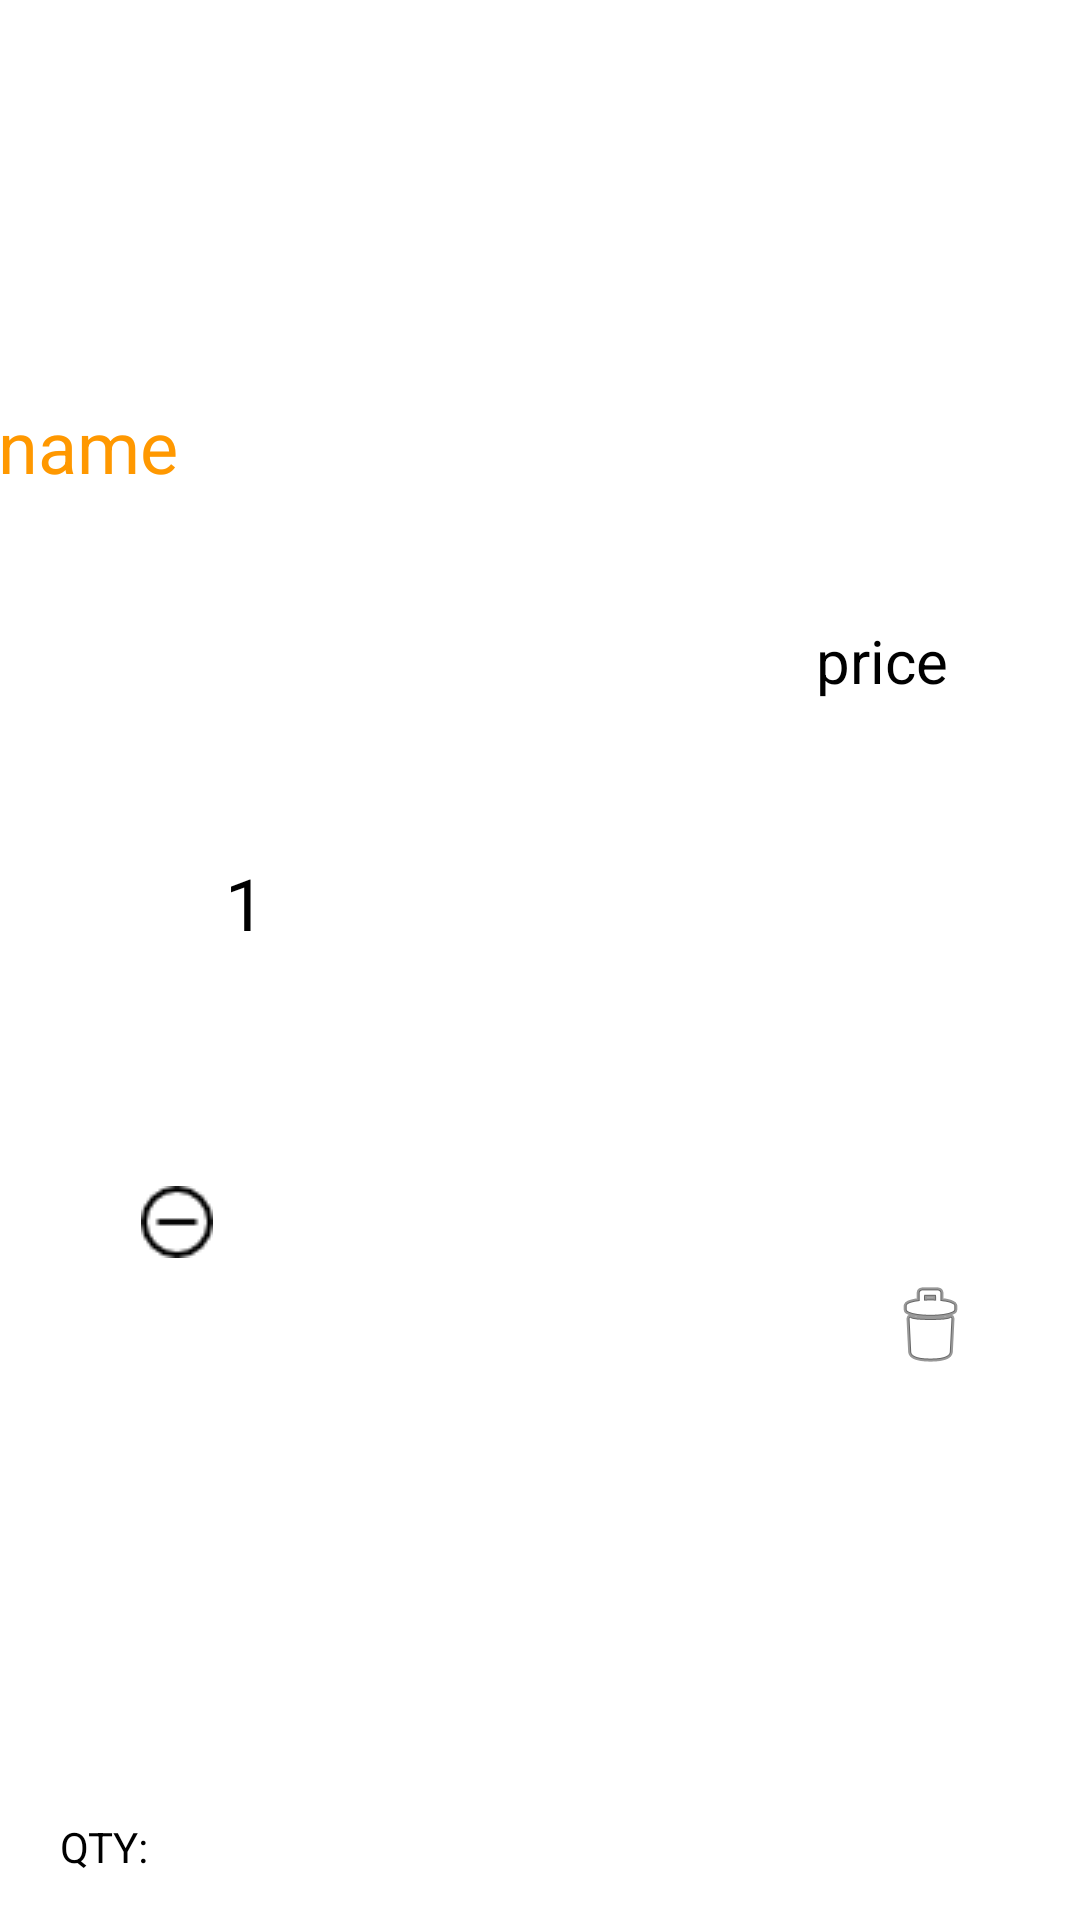

Where to tap for icons on this 1080x1920 app screen, as (x=x, y=y):
delete: (x=930, y=1324)
subtract: (x=177, y=1222)
